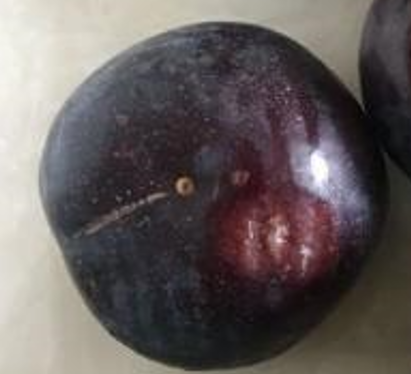plum_C: (38, 22, 392, 372)
